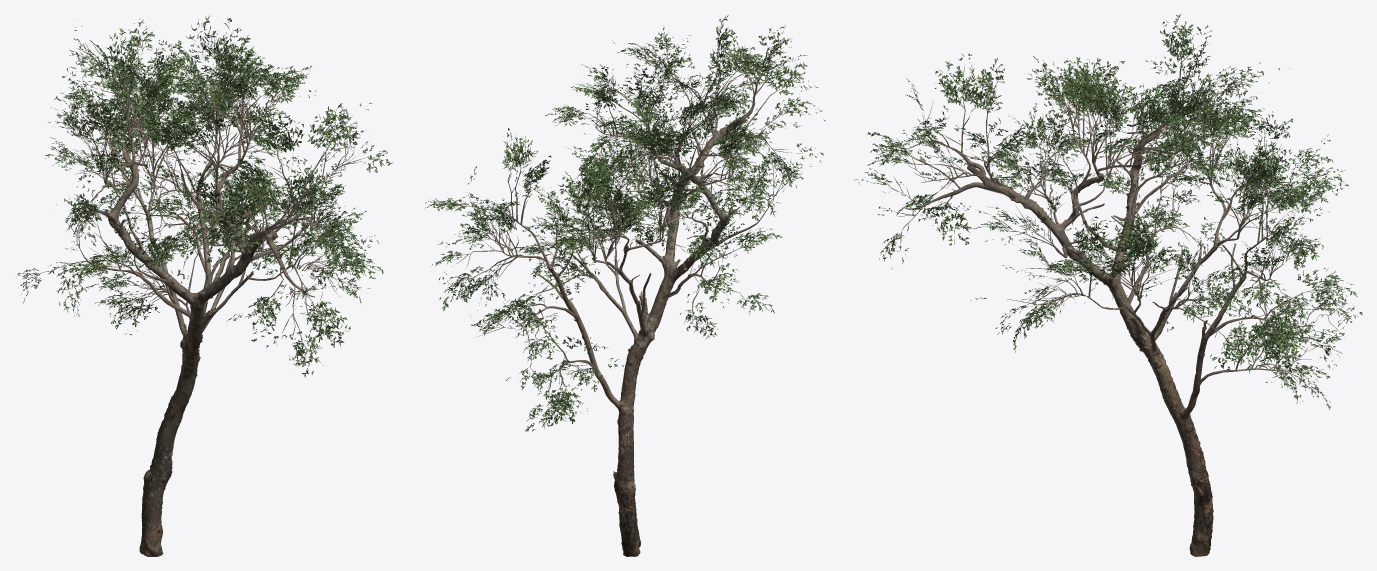
File: tree_small_02.glb
3 renders of one model, left to right at view 1: azimuth 30°, elevation 25°; view 2: azimuth 150°, elevation 25°; view 3: azimuth 270°, elevation 25°, orthographic. The views are drawn at different scales.
Parts seen in each view (by area): view 1: tree_small_02_LOD0; view 2: tree_small_02_LOD0; view 3: tree_small_02_LOD0.
Part boxes in pixels (x1,y1,x2,y2): tree_small_02_LOD0: [17, 15, 392, 556]; tree_small_02_LOD0: [424, 15, 825, 556]; tree_small_02_LOD0: [854, 14, 1362, 556].
Bounding box in the file's own units: 2.9 × 4.55 × 4.19.
Materials: 3 (3 with a texture image).
